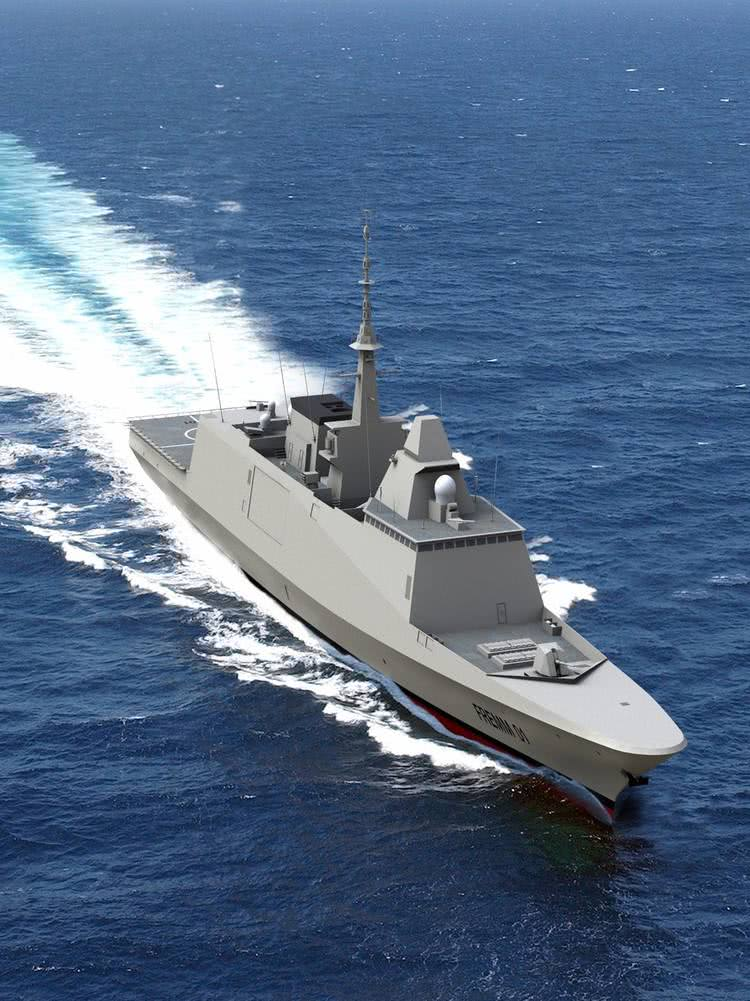warship: (124, 218, 696, 834)
